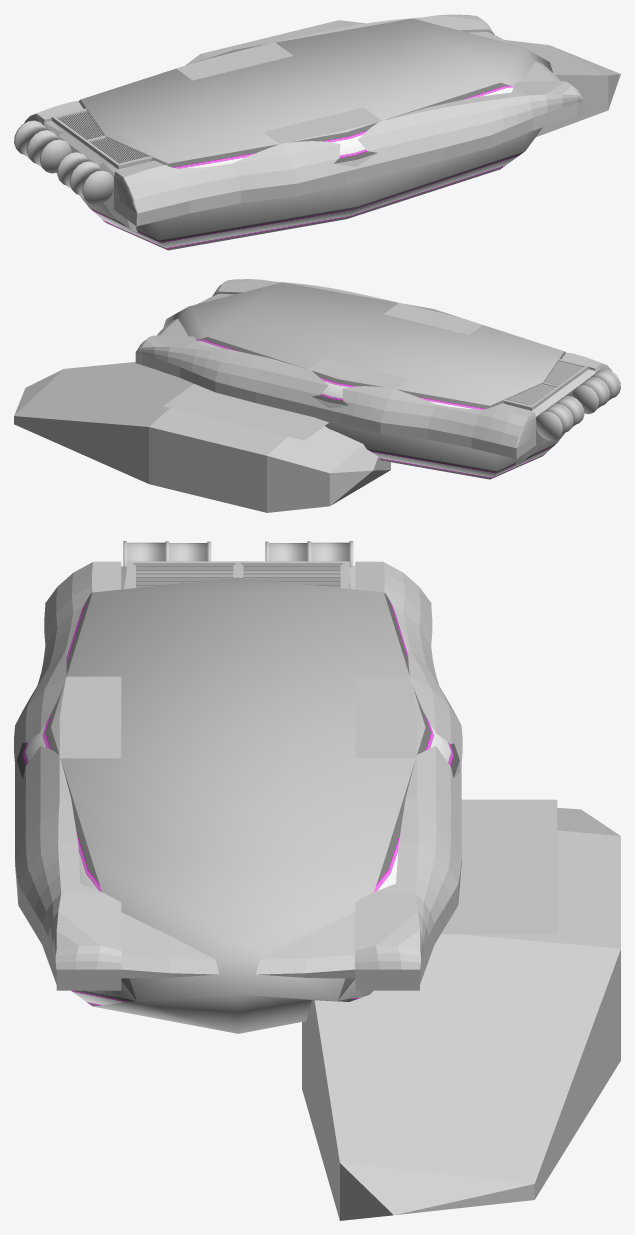
The model's file is T-90similar_Chassis.fbx.
3 renders of one model, top to bottom at view 1: azimuth 30°, elevation 25°; view 2: azimuth 150°, elevation 25°; view 3: azimuth 270°, elevation 25°, orthographic. The views are drawn at different scales.
Parts seen in each view (by area): view 1: Tank_proxy, T-90similar_Chassis, Tread_proxy; view 2: Tank_proxy, Tread_proxy, T-90similar_Chassis, T-90similar_Tread; view 3: Tank_proxy, Tread_proxy, T-90similar_Chassis, T-90similar_Tread.
Part boxes in pixels (<box>): Tank_proxy: <box>79,18,552,250</box>; T-90similar_Chassis: <box>14,14,584,232</box>; Tread_proxy: <box>185,20,620,136</box>; Tank_proxy: <box>163,282,565,479</box>; Tread_proxy: <box>14,362,390,512</box>; T-90similar_Chassis: <box>135,279,620,464</box>; T-90similar_Tread: <box>163,384,328,440</box>; Tank_proxy: <box>16,577,459,1033</box>; Tread_proxy: <box>302,807,620,1220</box>; T-90similar_Chassis: <box>14,541,462,990</box>; T-90similar_Tread: <box>441,799,557,934</box>.
Size of the model in its own units: 7.46 by 1.59 by 3.81.
